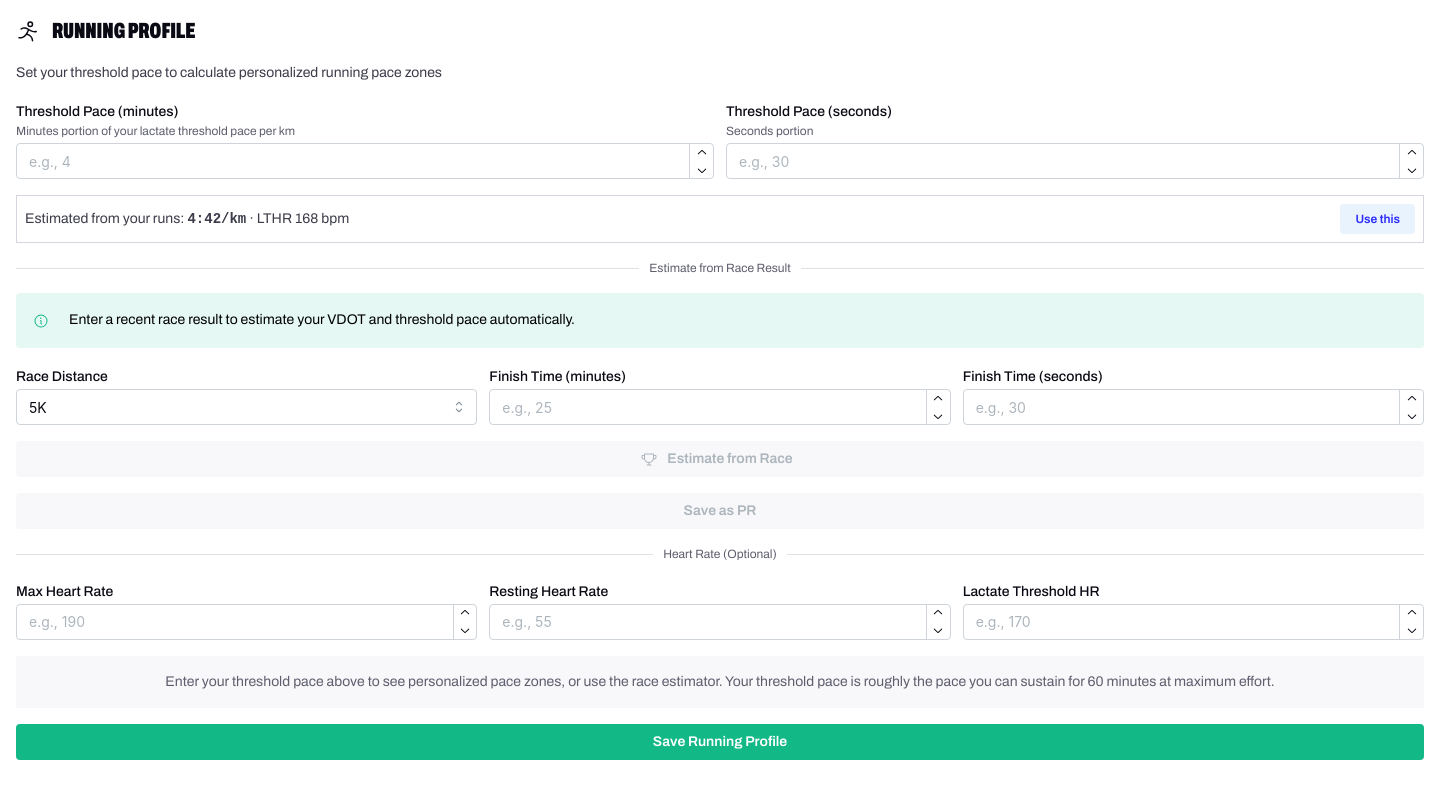
Test case: RunningProfileSettings estimates and PRs › offers the history estimate and fills the inputs on "Use this"
Expected: the element with test id "run-estimate-offer" shows "4:42/km", left=187, top=211, right=246, bottom=227
Expected: the element with test id "run-estimate-offer" shows "LTHR 168", left=246, top=211, right=349, bottom=226
Click the button "Use this": (1378, 219) left=1340, top=204, right=1415, bottom=234
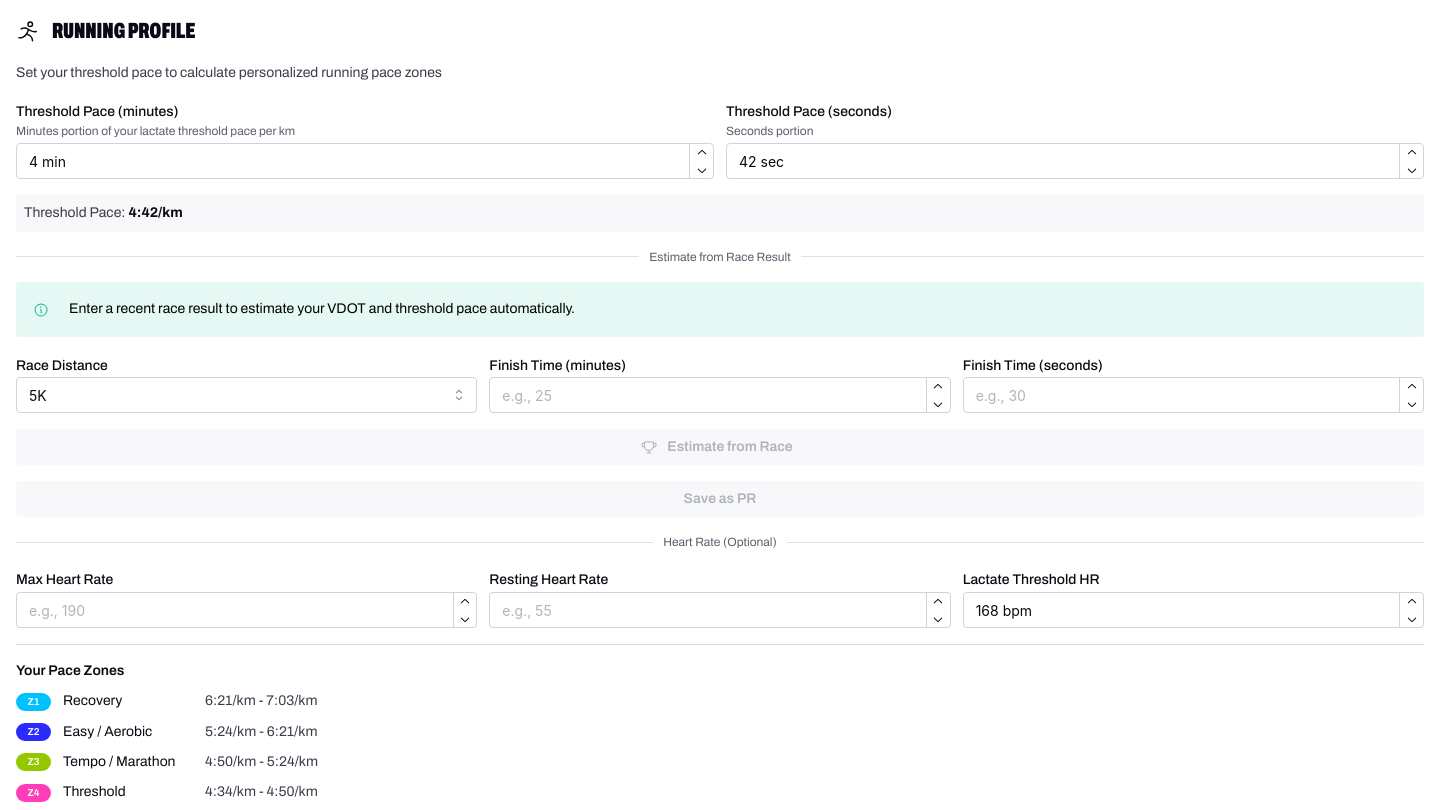
Expected: the text "4:42/km" is shown, left=128, top=205, right=183, bottom=220
Result: the element with test id "run-estimate-offer" is gone
